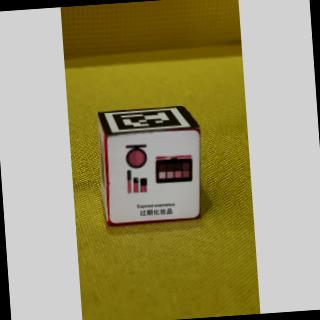Expired_Cosmetic: (109, 128, 202, 224)
